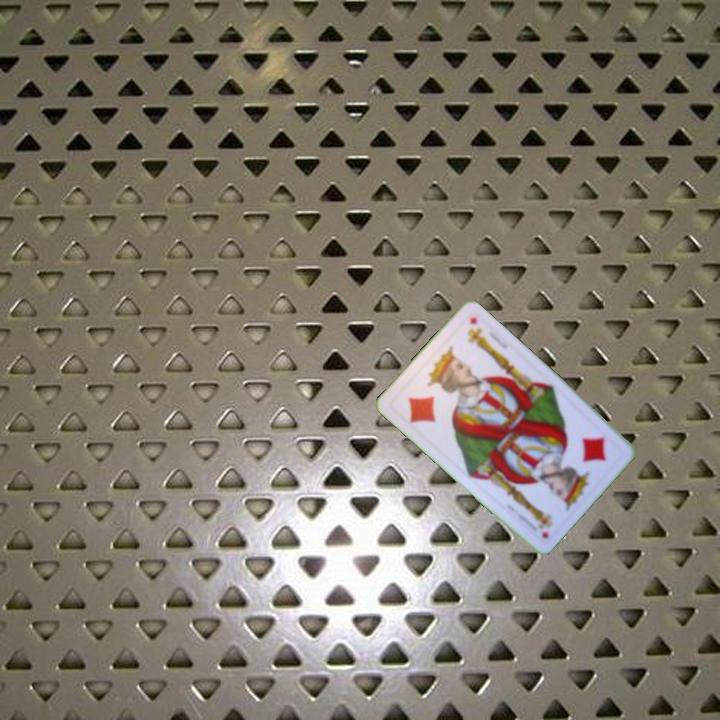d_k.png: (541, 413, 626, 499), (386, 356, 471, 442)
